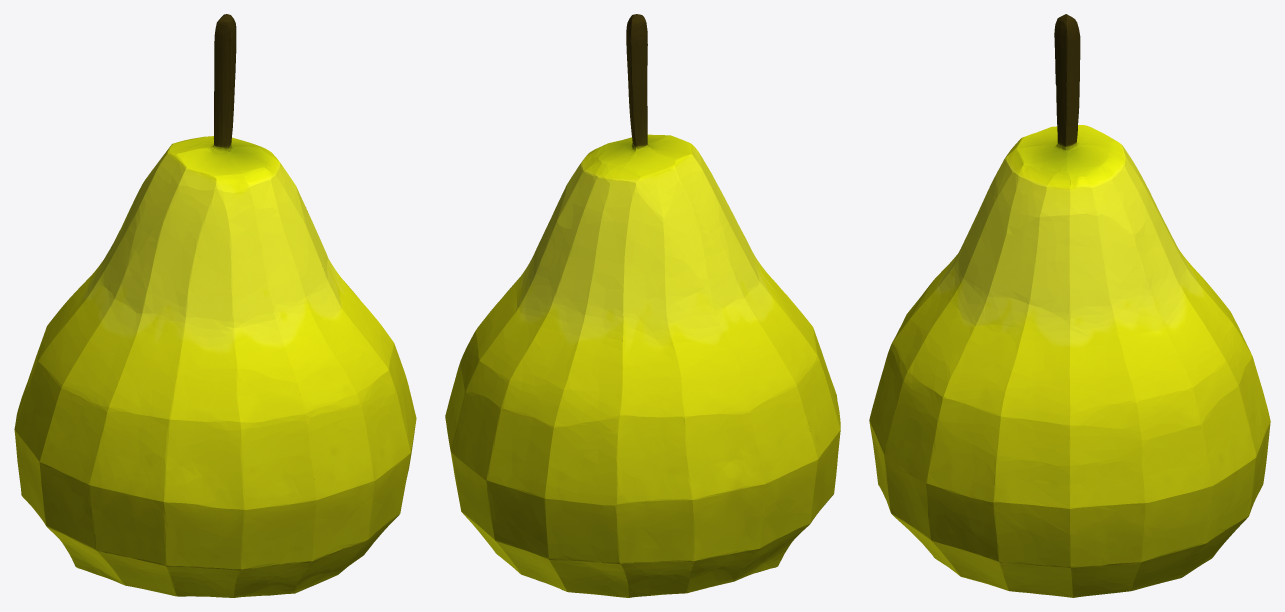
The model's file is pear.glb.
3 renders of one model, left to right at view 1: azimuth 30°, elevation 25°; view 2: azimuth 150°, elevation 25°; view 3: azimuth 270°, elevation 25°, orthographic.
Parts seen in each view (by area): view 1: world; view 2: world; view 3: world.
Part boxes in pixels (box(x1,y1,x2,y2)): world: box(14, 14, 416, 597); world: box(445, 14, 840, 597); world: box(869, 14, 1270, 597).
Size of the model in its own units: 0.6788 by 0.9876 by 0.6722.
Materials: 1 (1 with a texture image).
